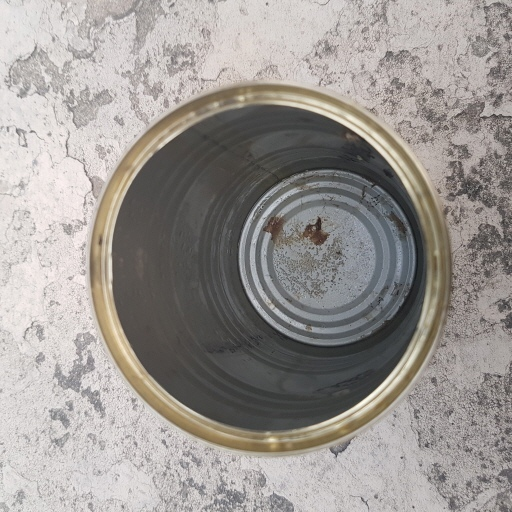Metal_1: (83, 81, 454, 456)
